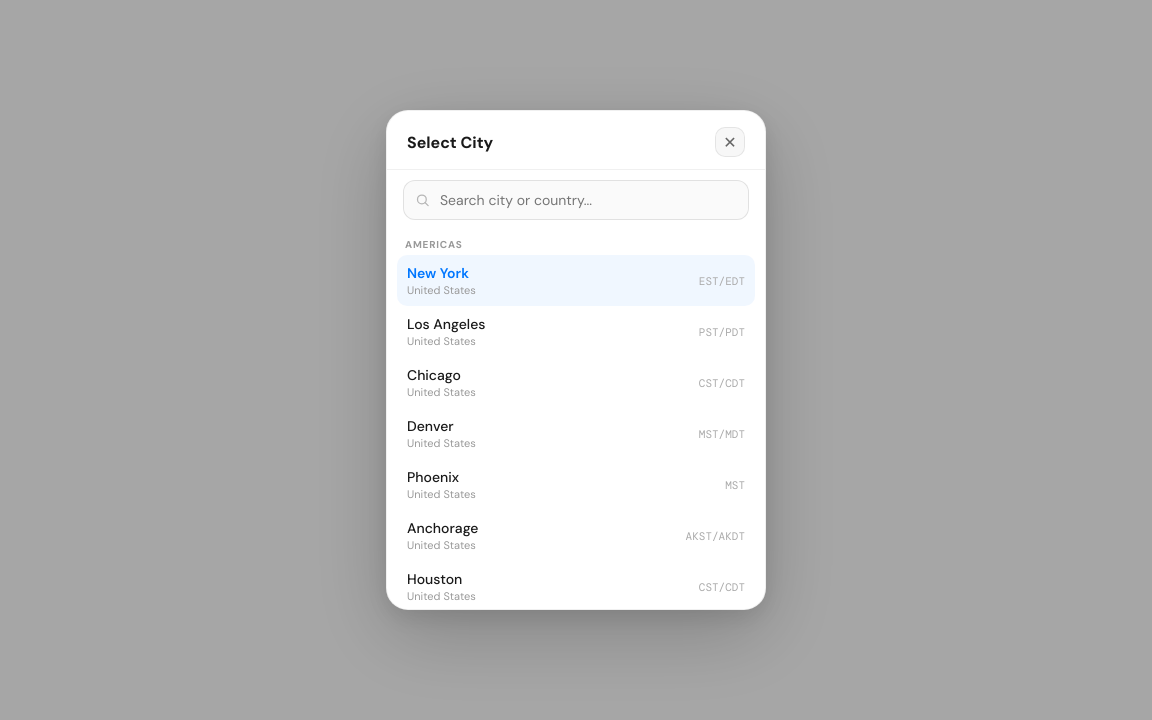
it: TimezonePicker › filters cities by search query
Type "Tokyo" into the field with placeholder "Search city or country..." at (576, 200), box x1=403 y1=180 x2=749 y2=220
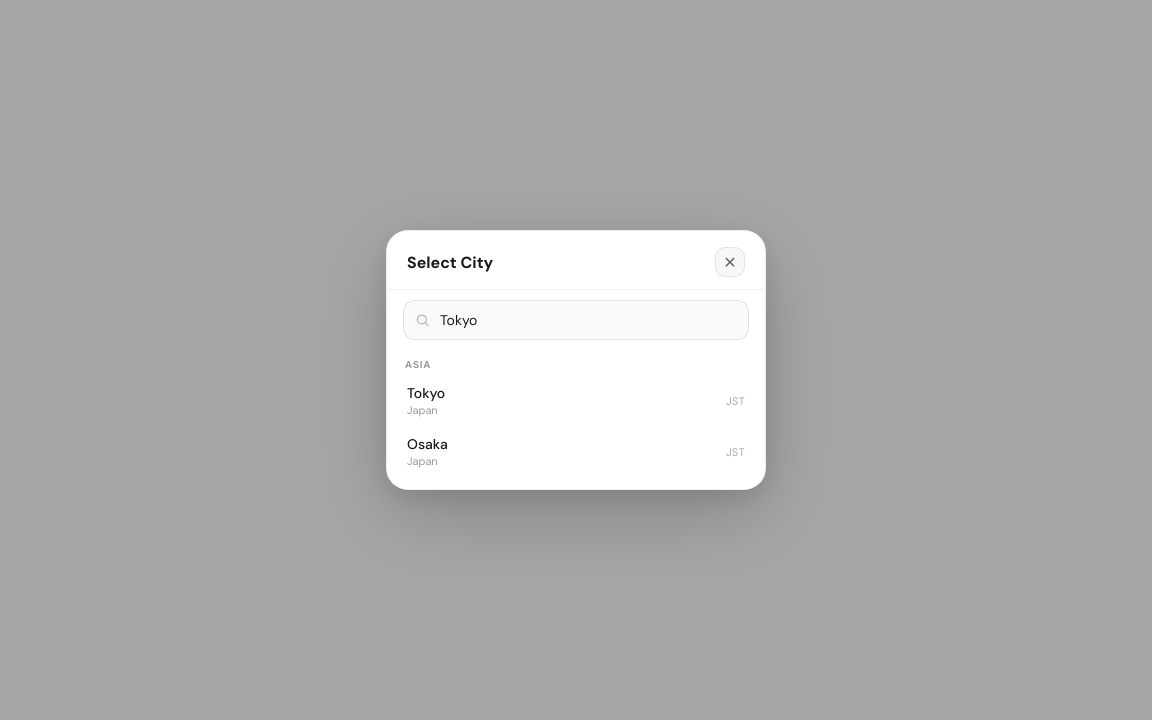
Now the text "Tokyo" is shown, box x1=407 y1=384 x2=445 y2=402
